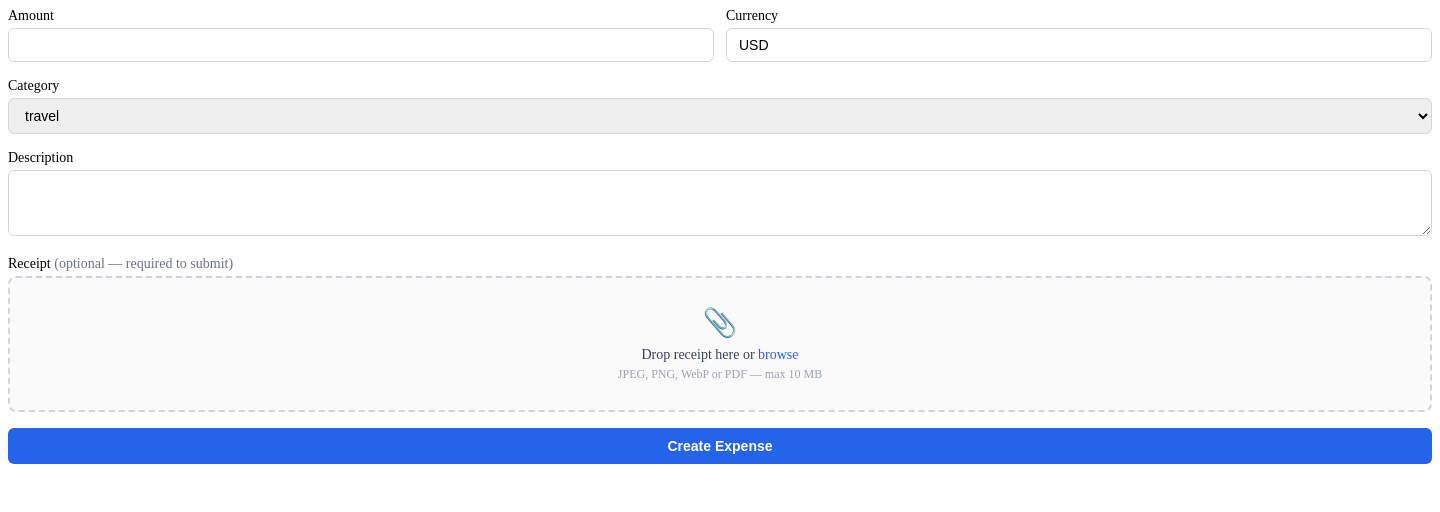
it: ExpenseForm › shows validation error when description is too short
In the number field labelled "Amount": (361, 45) 8,28 -> 714,62, type "50"
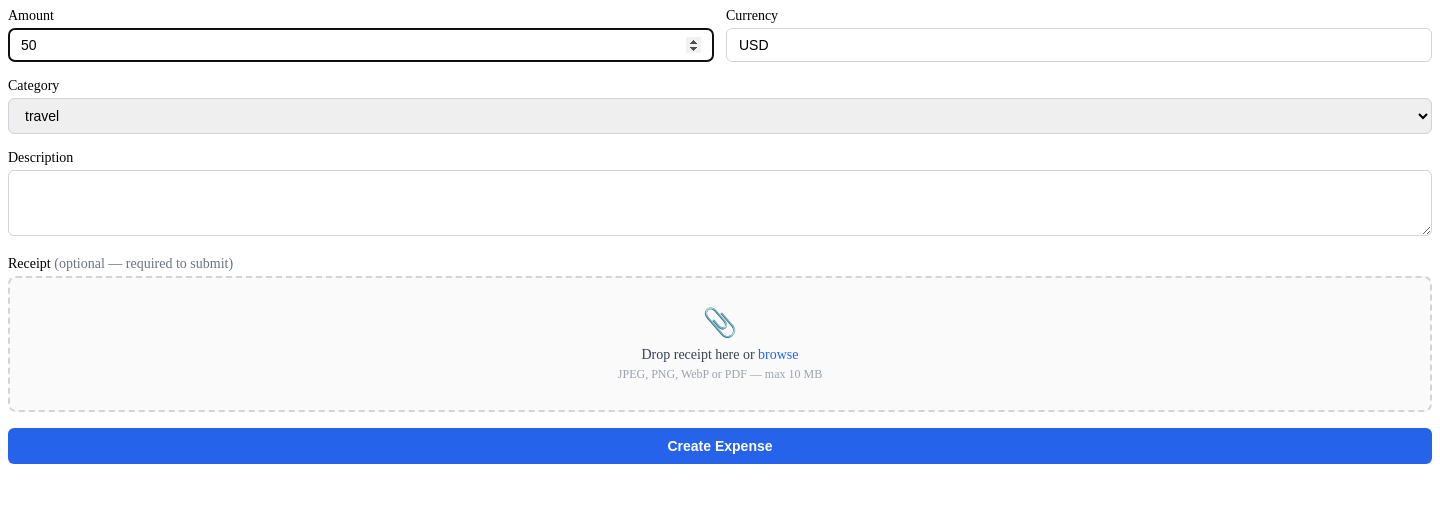
In the text box labelled "Description": (720, 203) 8,170 -> 1432,236, type "Hi"
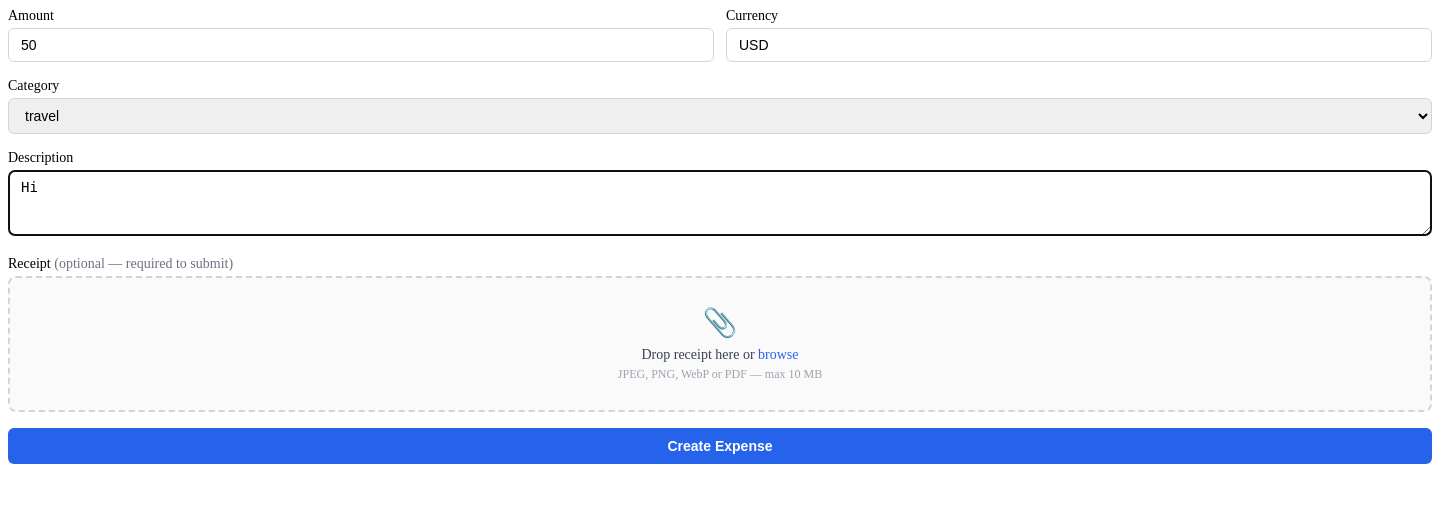
Click the button "Create Expense": (720, 446) 8,428 -> 1432,464
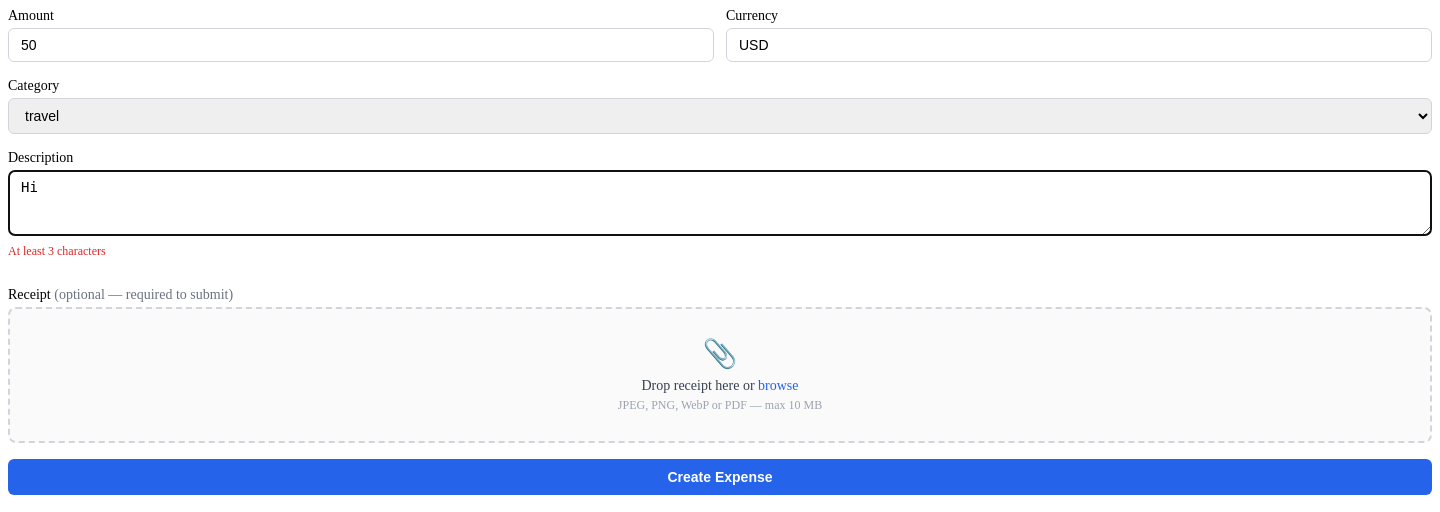
Expected: the text "At least 3 characters" is shown, 8,244 -> 106,258
